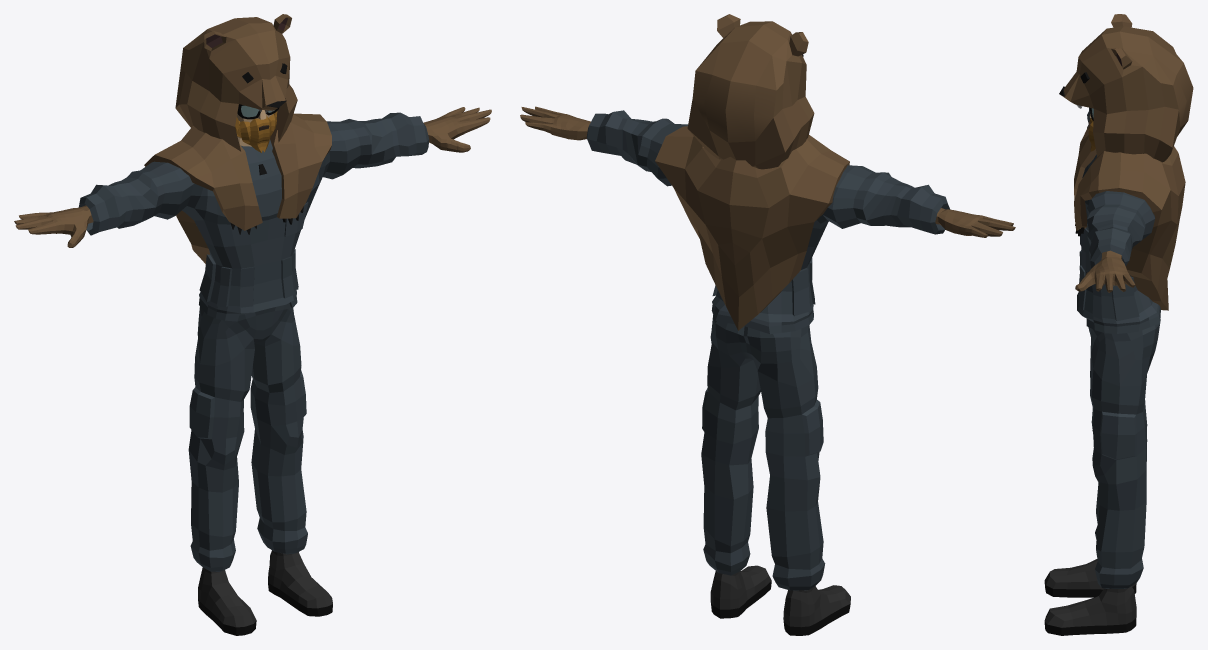
Rendered from Petr.fbx.
3 renders of one model, left to right at view 1: azimuth 30°, elevation 25°; view 2: azimuth 150°, elevation 25°; view 3: azimuth 270°, elevation 25°, orthographic. The views are drawn at different scales.
Visible parts, largest first — view 1: Top, Legs, Bear_head, Feet, Head_petr; view 2: Bear_head, Legs, Top, Feet; view 3: Bear_head, Legs, Top, Feet.
Boxes of the visible parts, x1,y1,x2,y2 form: Top: [14, 107, 491, 321]; Legs: [188, 303, 307, 571]; Bear_head: [144, 14, 331, 263]; Feet: [198, 550, 332, 635]; Head_petr: [235, 104, 279, 152]; Bear_head: [655, 14, 849, 330]; Legs: [701, 315, 825, 590]; Top: [520, 106, 1015, 334]; Feet: [710, 565, 850, 635]; Bear_head: [1059, 14, 1193, 310]; Legs: [1088, 319, 1160, 588]; Top: [1075, 107, 1160, 333]; Feet: [1044, 559, 1136, 635].
Bounding box in the file's own units: 168 × 193 × 45.13.
